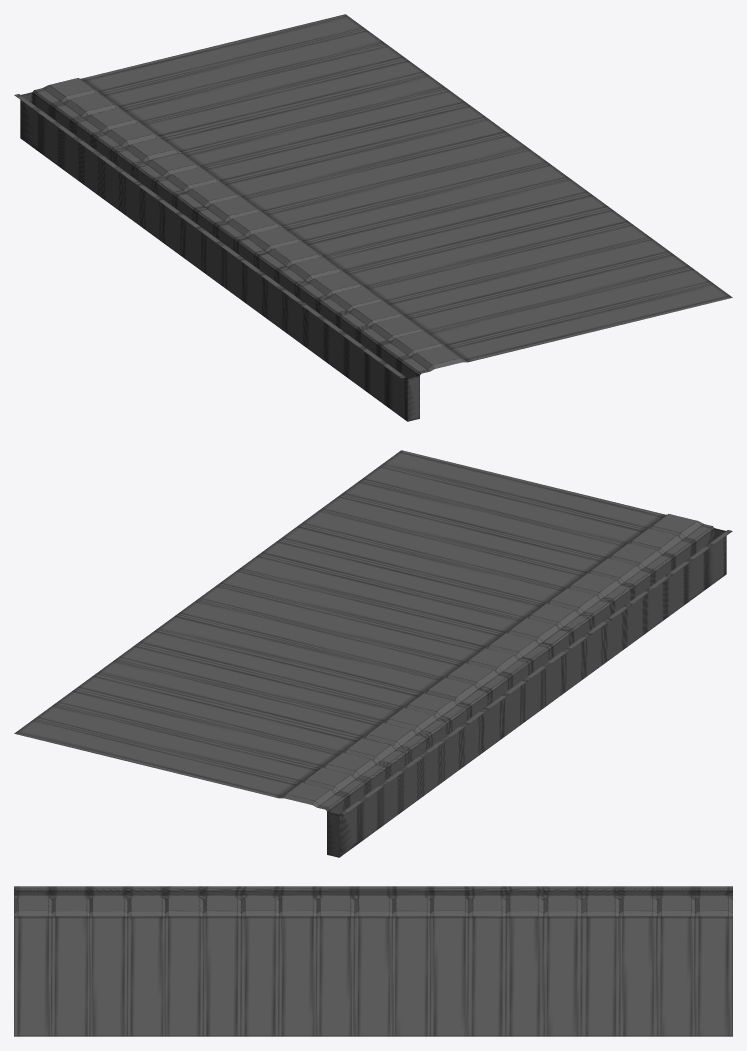
The model's file is Plataforma.fbx.
3 views of the same model, one above another, from view 1: azimuth 30°, elevation 25°; view 2: azimuth 150°, elevation 25°; view 3: azimuth 270°, elevation 25° (orthographic). The views are drawn at different scales.
Parts seen in each view (by area): view 1: Plane; view 2: Plane; view 3: Plane.
Part boxes in pixels (bbox=[...]): Plane: bbox=[14, 14, 732, 421]; Plane: bbox=[14, 450, 732, 857]; Plane: bbox=[14, 886, 732, 1036].
Bounding box in the file's own units: 884 × 124 × 1789.
